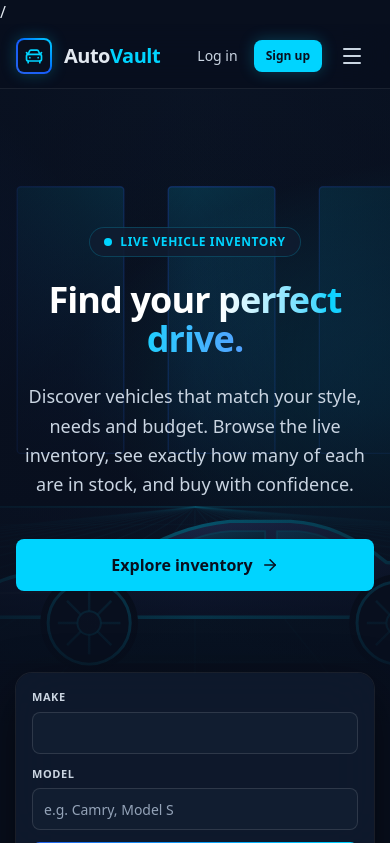
Test: the menu on a phone › opens with the same links as the main navigation, and the button then offers to close it
Click the button named "Open menu": (352, 56) [330,34,374,78]
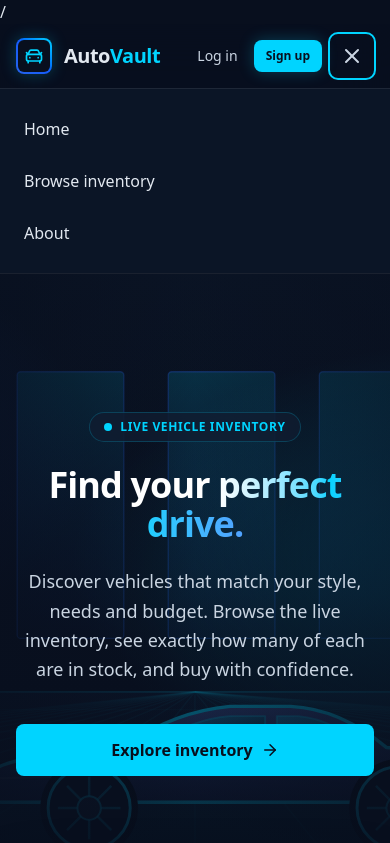
Check: the button named "Close menu" is expanded, box [330,34,374,78]
Check: the links read "Home", "Browse inventory", "About", in this order, box [24,118,70,140]; [24,170,155,192]; [24,222,69,244]
